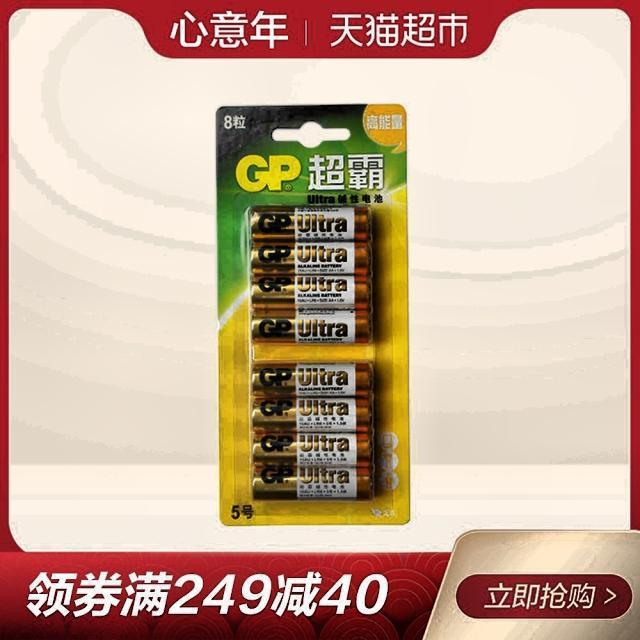battery: (251, 362, 374, 501), (250, 206, 371, 343)
